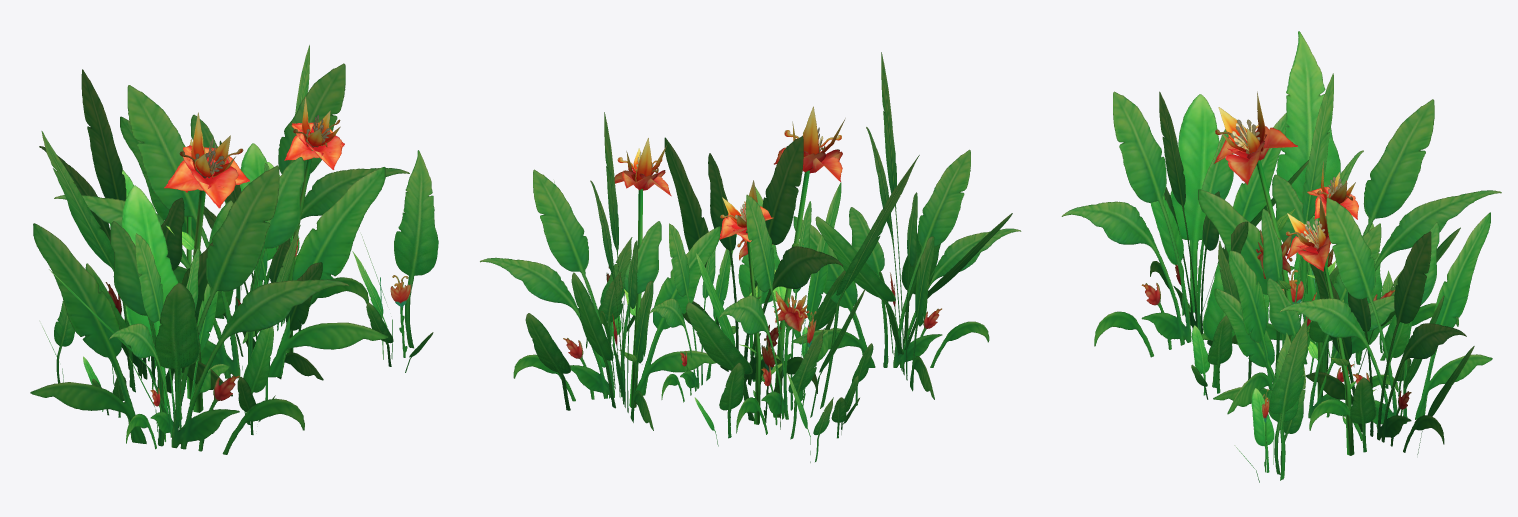
Rendered from cao_04.FBX.
The picture shows the model from 3 angles, left to right: view 1: azimuth 30°, elevation 25°; view 2: azimuth 150°, elevation 25°; view 3: azimuth 270°, elevation 25°; orthographic projection. The views are drawn at different scales.
Parts seen in each view (by area): view 1: changjing_xiaohua; view 2: changjing_xiaohua; view 3: changjing_xiaohua.
Part boxes in pixels (x1,y1,x2,y2): changjing_xiaohua: (30,45,438,454); changjing_xiaohua: (480,52,1021,462); changjing_xiaohua: (1061,31,1501,482).
Size of the model in its own units: 218 by 155 by 198.
Materials: 1 (1 with a texture image).
